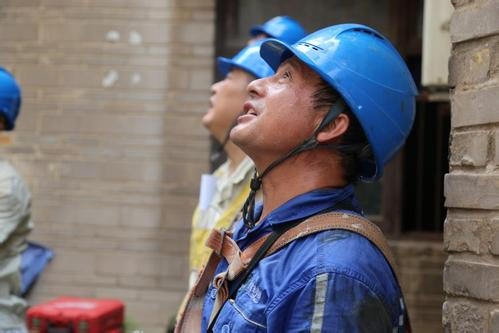hard-hat: (259, 22, 419, 182), (216, 38, 276, 78), (0, 64, 21, 130)
person: (198, 21, 417, 333), (173, 15, 306, 333), (0, 65, 34, 333)
